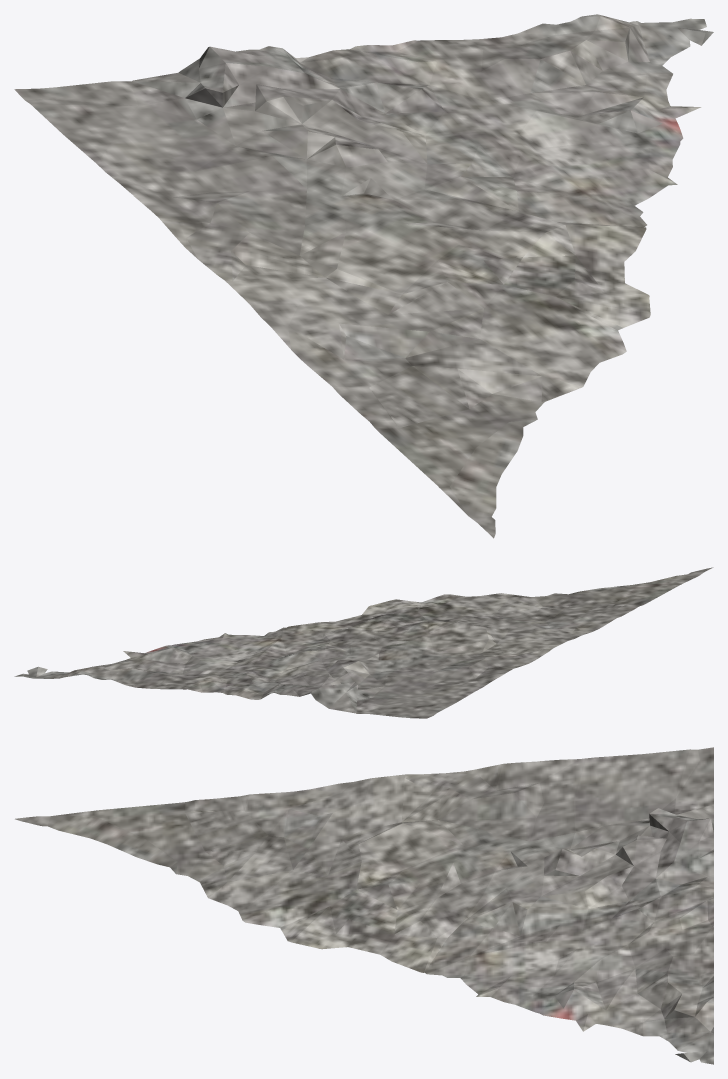
The picture shows the model from 3 angles, top to bottom: view 1: azimuth 30°, elevation 25°; view 2: azimuth 150°, elevation 25°; view 3: azimuth 270°, elevation 25°; orthographic projection. The views are drawn at different scales.
Size of the model in its own units: 0.6106 by 0.083 by 0.735.
1 material, 1 textured.
